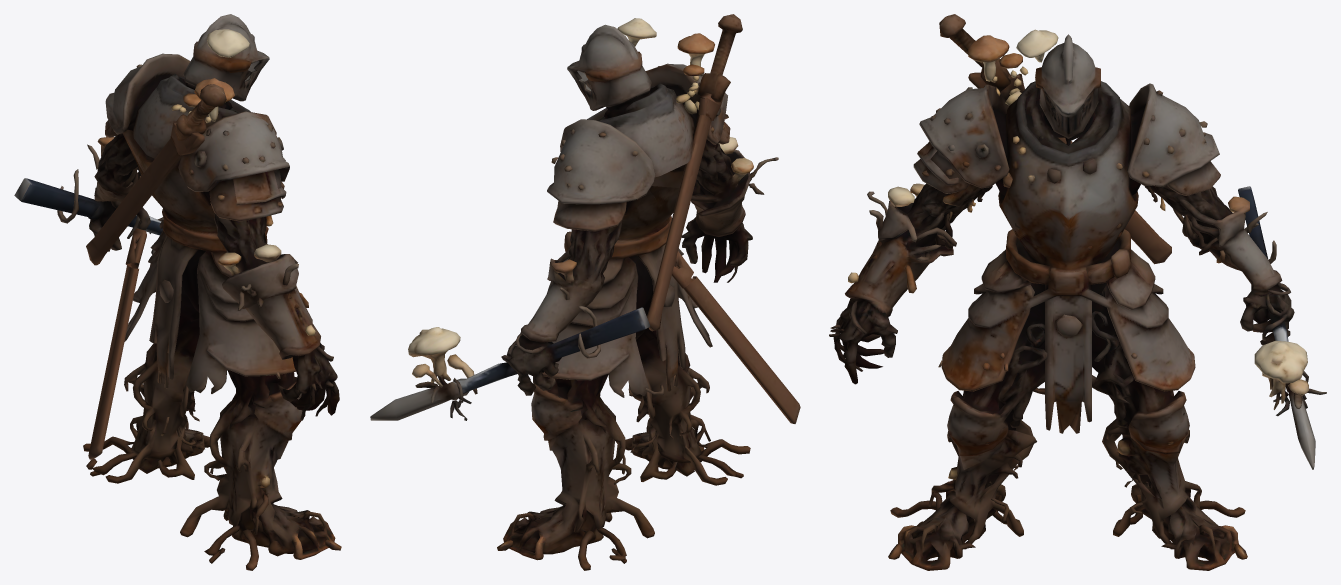
The picture shows the model from 3 angles, left to right: view 1: azimuth 30°, elevation 25°; view 2: azimuth 150°, elevation 25°; view 3: azimuth 270°, elevation 25°; orthographic projection. The views are drawn at different scales.
Parts seen in each view (by area): view 1: tripo_node_a2d84290-b99d-4e00-8294-5a406b1a43dc; view 2: tripo_node_a2d84290-b99d-4e00-8294-5a406b1a43dc; view 3: tripo_node_a2d84290-b99d-4e00-8294-5a406b1a43dc.
Part boxes in pixels (<box>): tripo_node_a2d84290-b99d-4e00-8294-5a406b1a43dc: <box>14,14,341,570</box>; tripo_node_a2d84290-b99d-4e00-8294-5a406b1a43dc: <box>370,14,800,570</box>; tripo_node_a2d84290-b99d-4e00-8294-5a406b1a43dc: <box>829,14,1326,570</box>.
Size of the model in its own units: 0.6243 by 0.9941 by 0.8748.
1 material, 1 textured.
